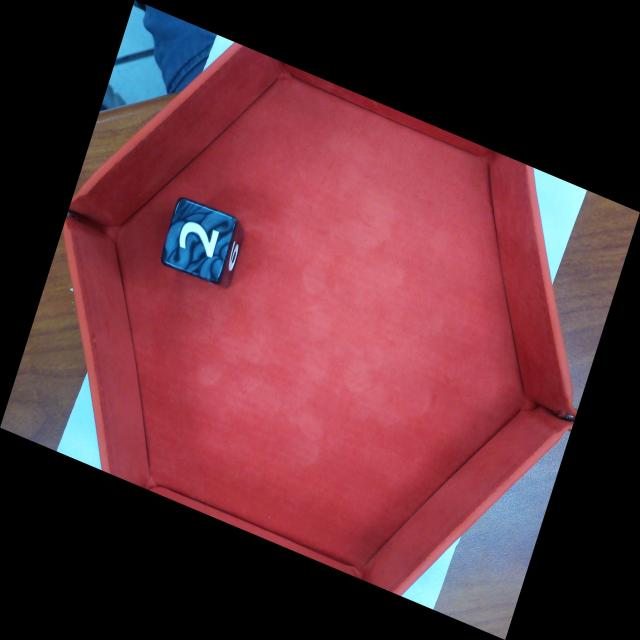dice: (161, 198, 237, 284)
